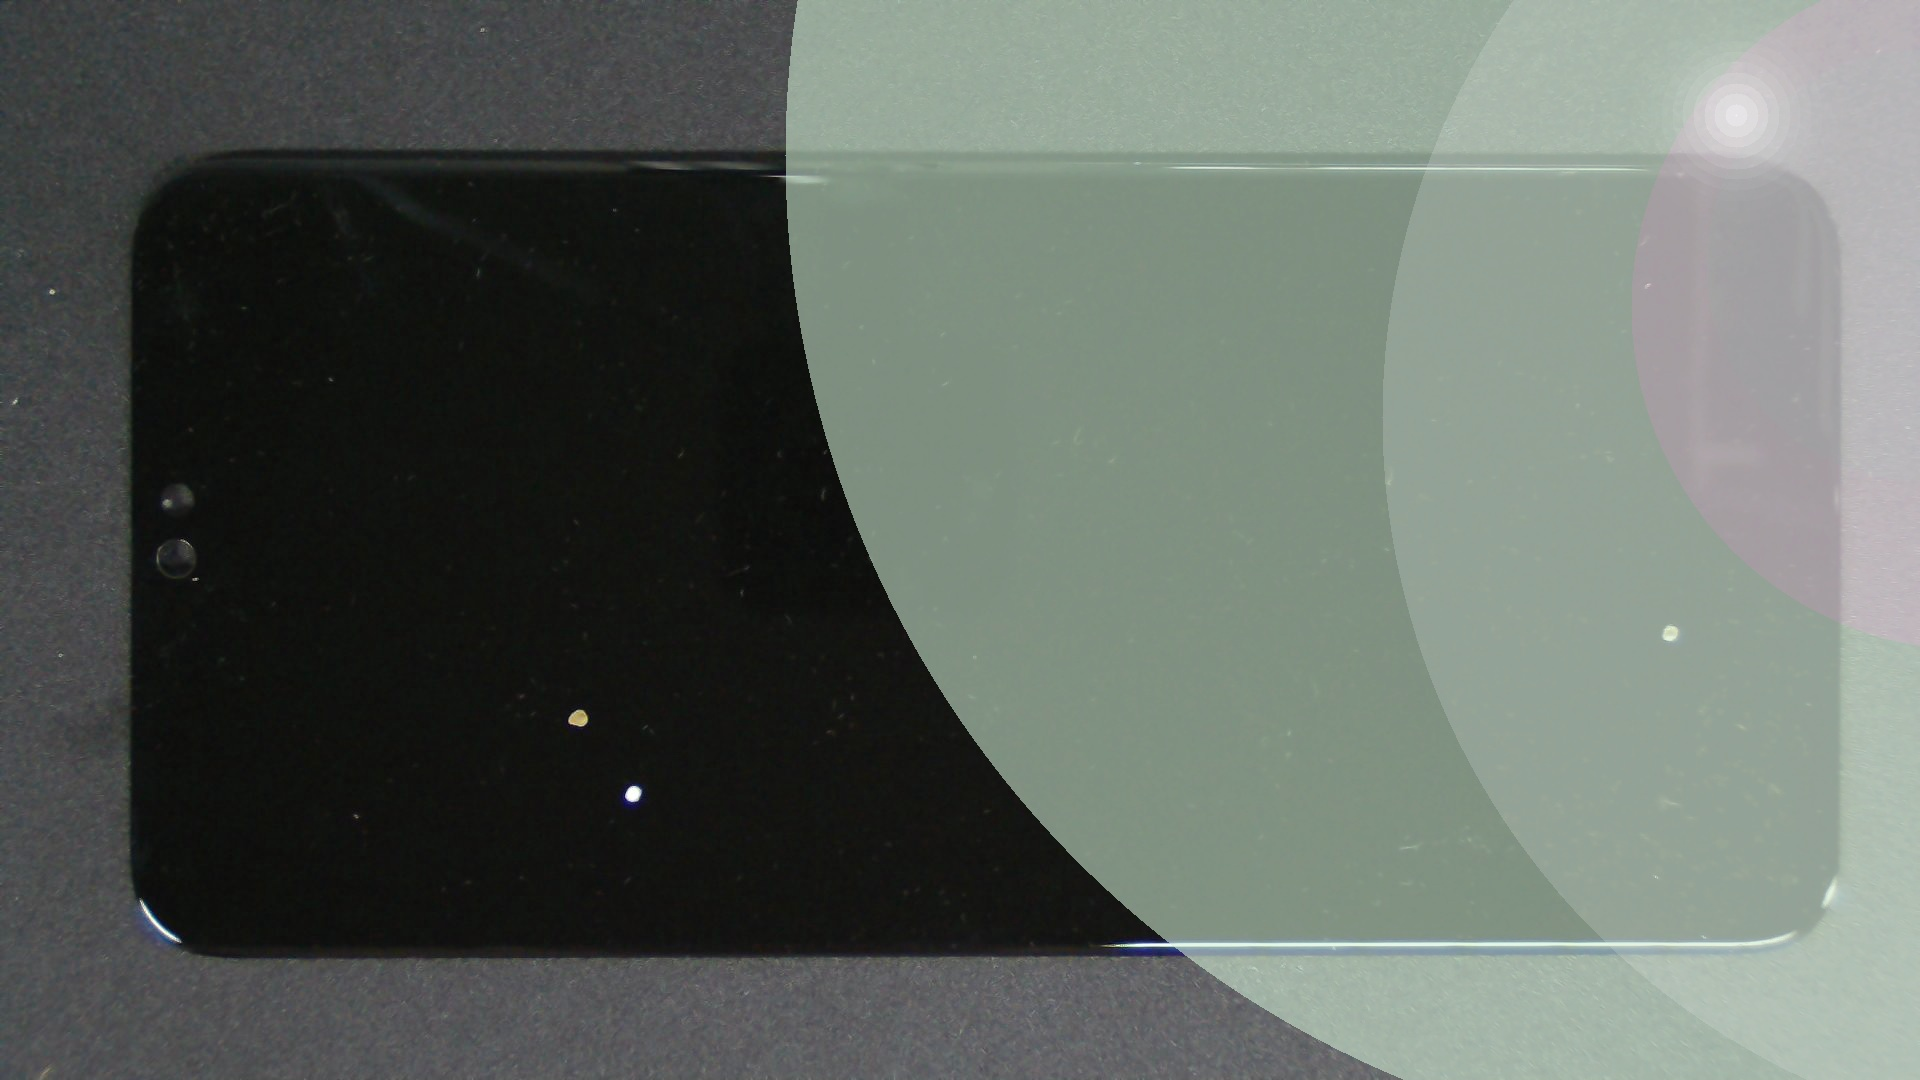oil: (836, 311, 1920, 935), (316, 390, 943, 1080), (290, 353, 866, 1063)
